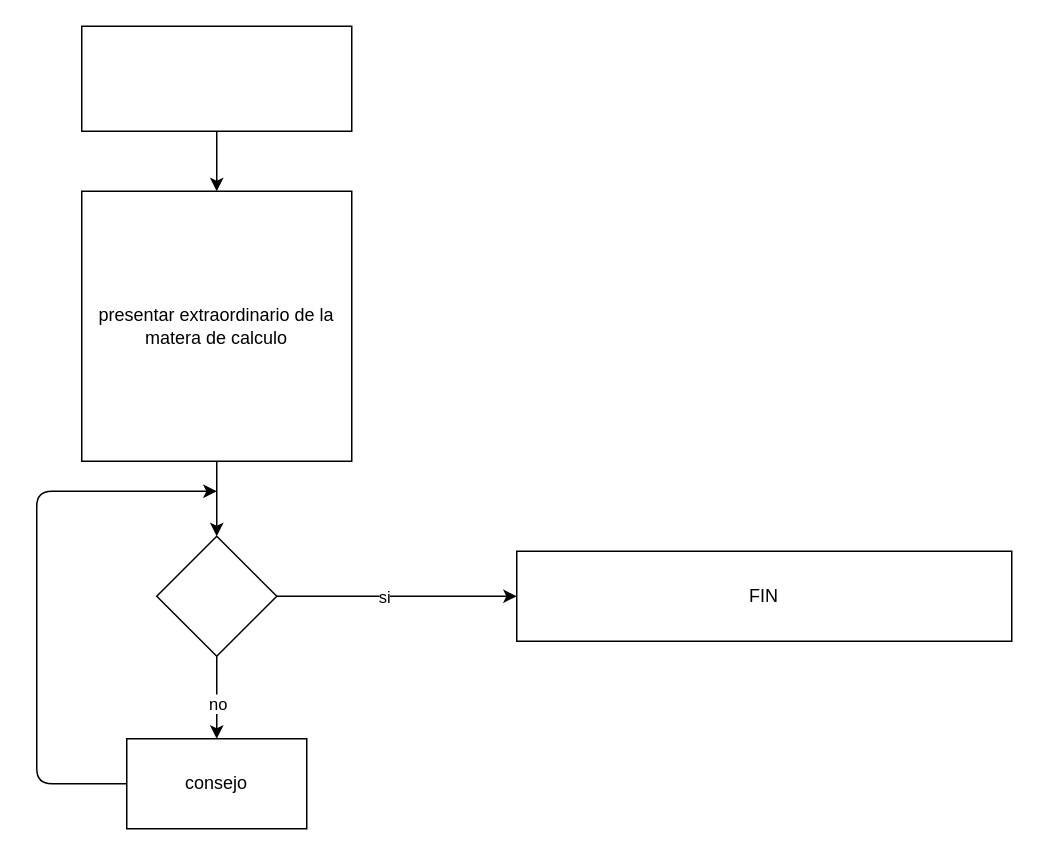
The diagram is 1038 pixels wide and 855 high, and some of its shapes have lost their labels. Here are the shapes that lost their labels. From the top down, the centre of each, then its label:
the point at 216,78: INICIO
the point at 216,595: cal>70
